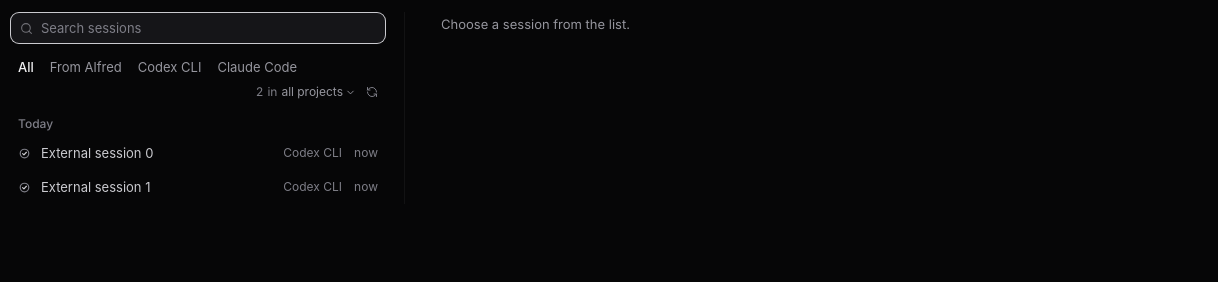
Test: SessionsSurface › ignores a stale transcript response after a newer selection
Click the option "External session 0 Codex CLI now" at {"x": 97, "y": 153}, box [8, 136, 388, 170]
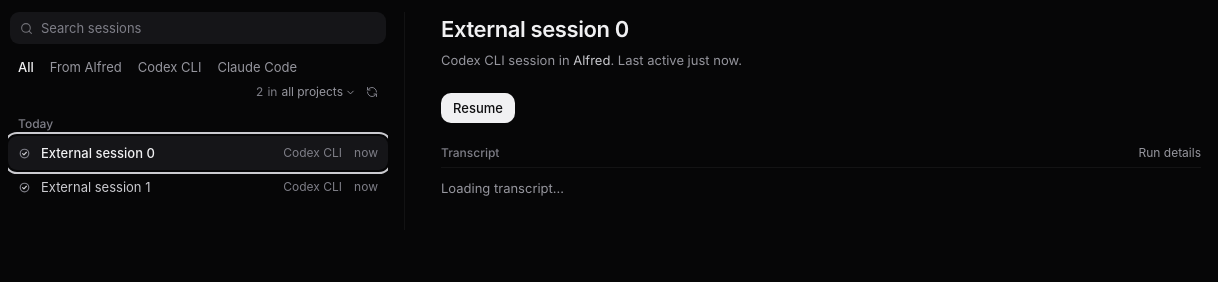
Click the option "External session 1 Codex CLI now" at {"x": 96, "y": 187}, box [8, 170, 388, 204]
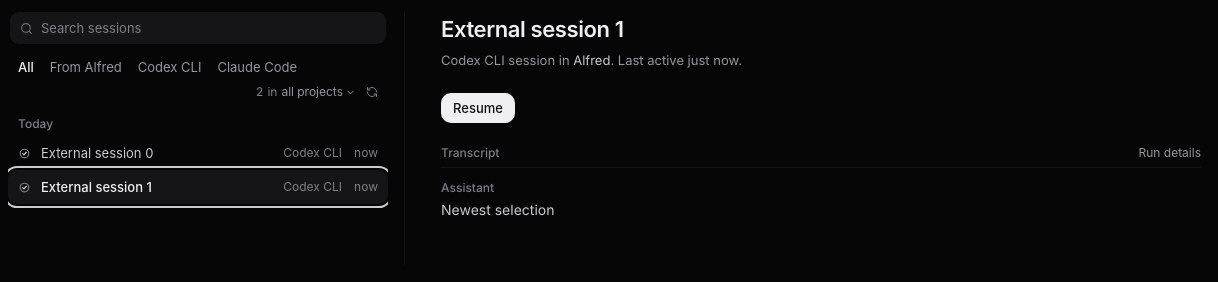
Result: the text "Newest selection" is shown at [441, 202, 554, 219]
